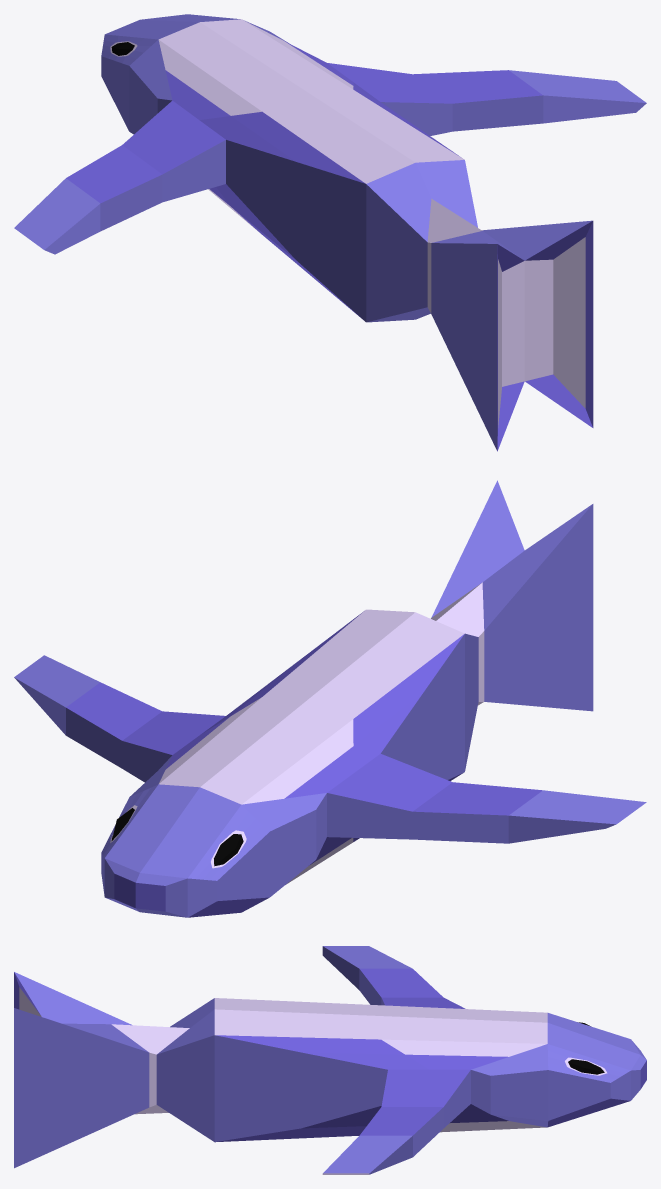
The model's file is flyingFish.fbx.
3 views of the same model, one above another, from view 1: azimuth 30°, elevation 25°; view 2: azimuth 150°, elevation 25°; view 3: azimuth 270°, elevation 25° (orthographic). The views are drawn at different scales.
Parts seen in each view (by area): view 1: flying fish; view 2: flying fish; view 3: flying fish.
Boxes of the visible parts, x1=… form: flying fish: x1=14, y1=14, x2=646, y2=451; flying fish: x1=14, y1=480, x2=646, y2=917; flying fish: x1=14, y1=946, x2=646, y2=1174.
Size of the model in its own units: 1872 by 617 by 2204.
